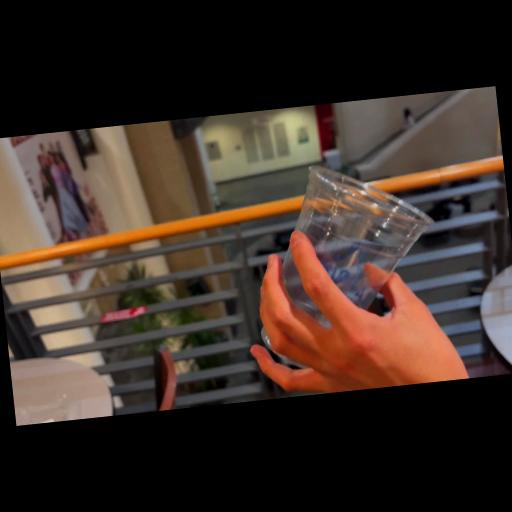lp_plastic_cup: (250, 156, 446, 366)
